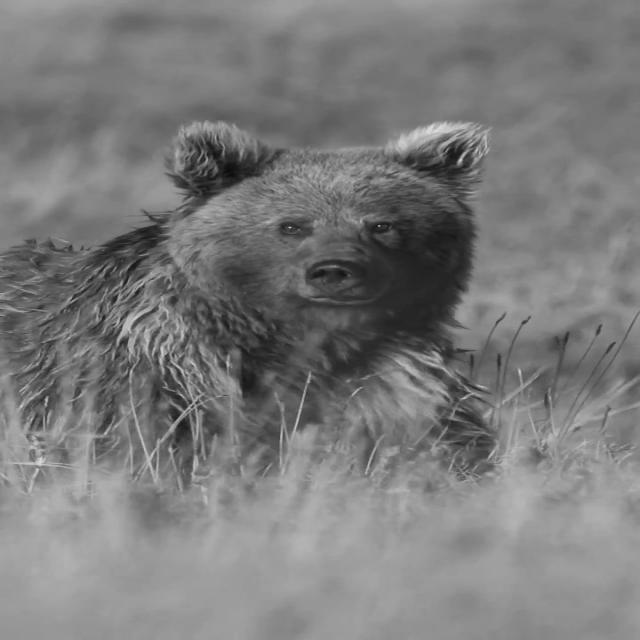Bear: (0, 119, 500, 501)
